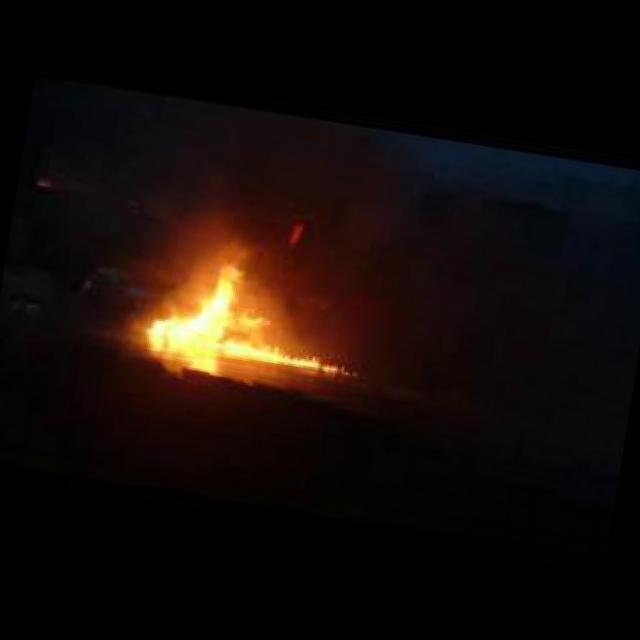fire: (108, 233, 366, 394)
